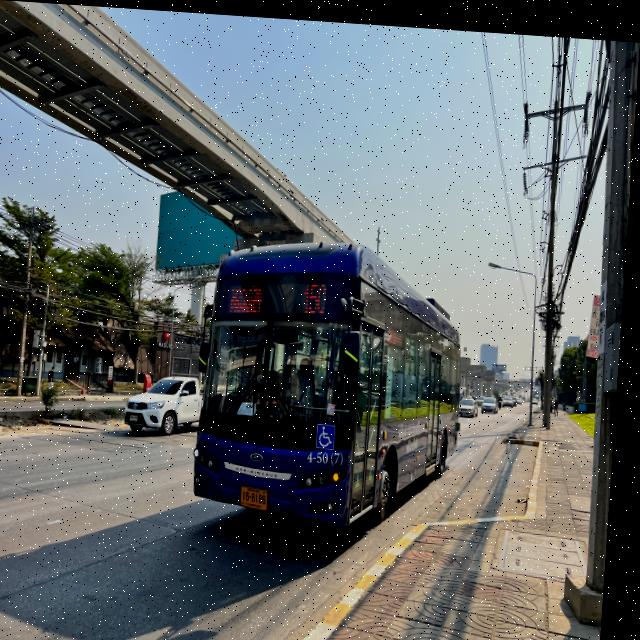Bus-Line-Number: (303, 273, 338, 315)
Destination-Sign-Normal: (230, 279, 269, 315)
TSB-Bus: (195, 231, 474, 532)
